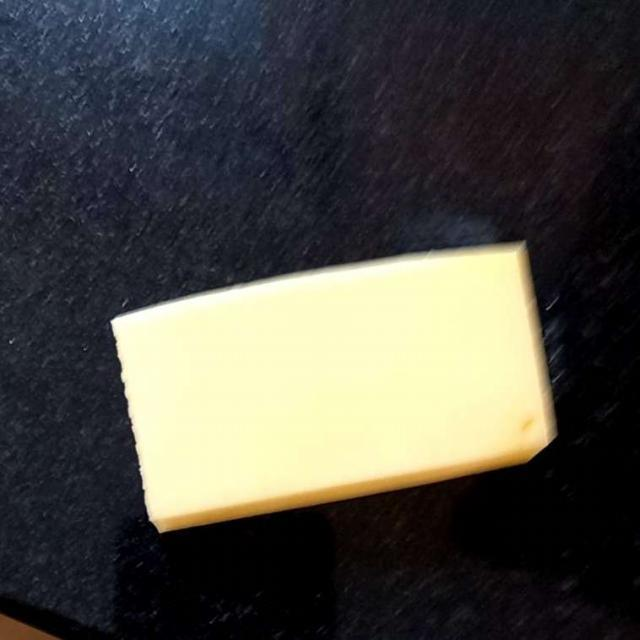cheese: (109, 243, 553, 544)
